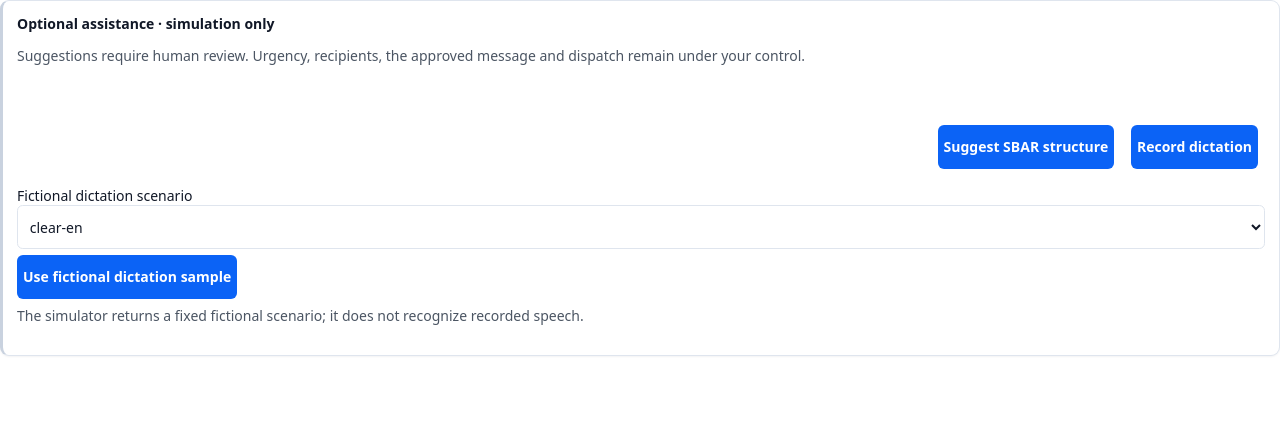
Test: microphone denial leaves a typed fallback
Click the button "Record dictation" at (1194, 147), box x1=1131 y1=125 x2=1258 y2=169
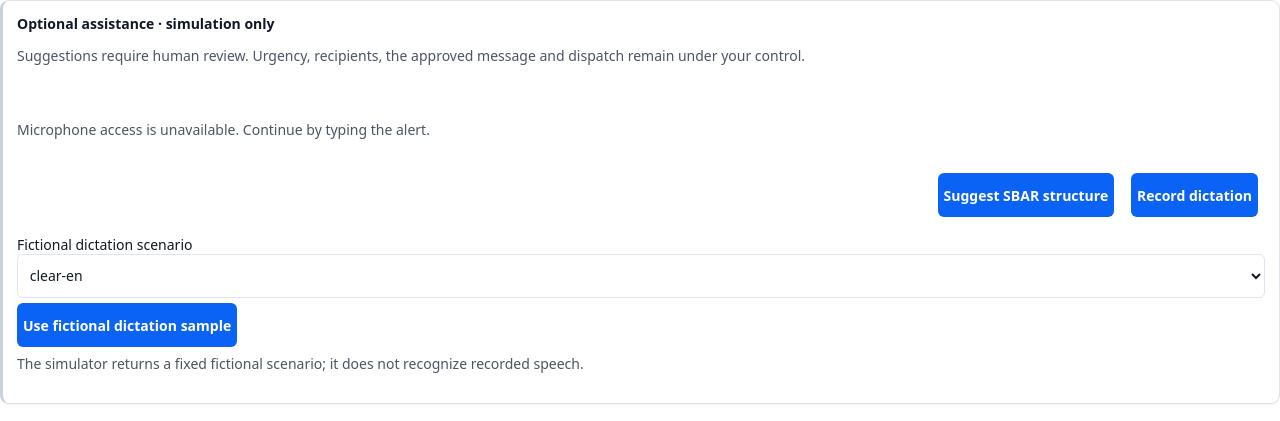
Check: the message shows "Microphone access is unavailable", box x1=17 y1=120 x2=430 y2=139
